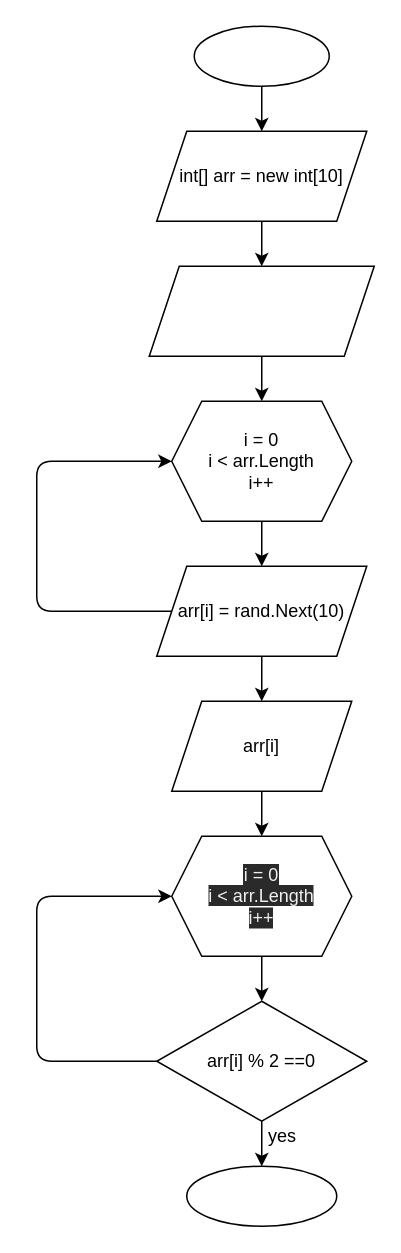
The diagram is 401 pixels wide and 1253 high, and some of its shapes have lost their labels. The shapes that lost their labels are listed below. From the top down, each one's centre as x and y in pixels, then its label:
At point (261, 55): "start".
At point (261, 310): "Random rand = new Random()".
At point (261, 1195): "finish".
